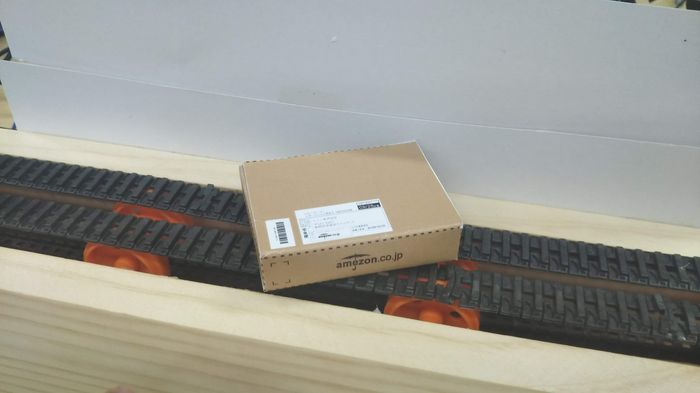box2: (235, 139, 465, 290)
